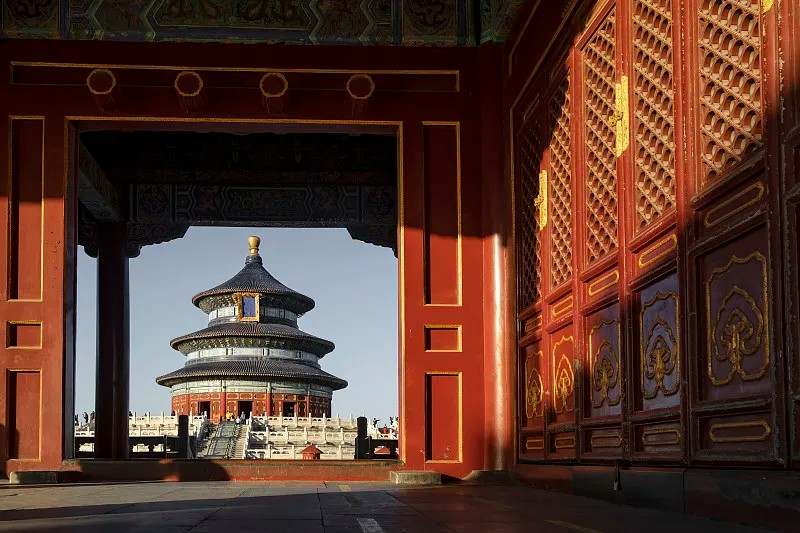Heaven: (155, 236, 350, 415)
